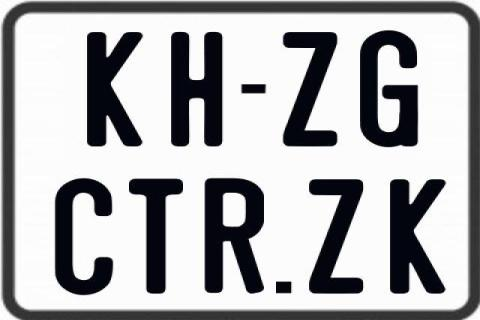C: (56, 179, 116, 295)
G: (360, 29, 421, 148)
H: (170, 30, 223, 148)
K: (84, 32, 144, 148), (388, 177, 446, 293)
R: (202, 176, 261, 296)
T: (126, 176, 185, 295)
Z: (282, 30, 341, 150), (308, 178, 362, 292)
